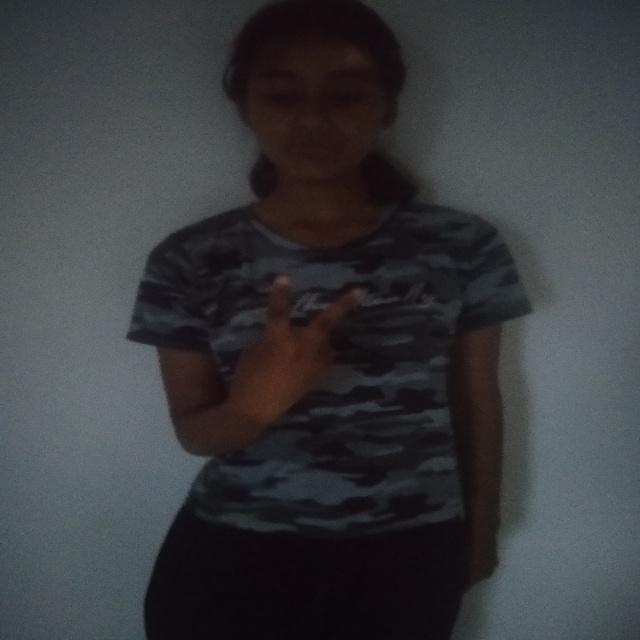Reversed Victory: (219, 266, 376, 443)
